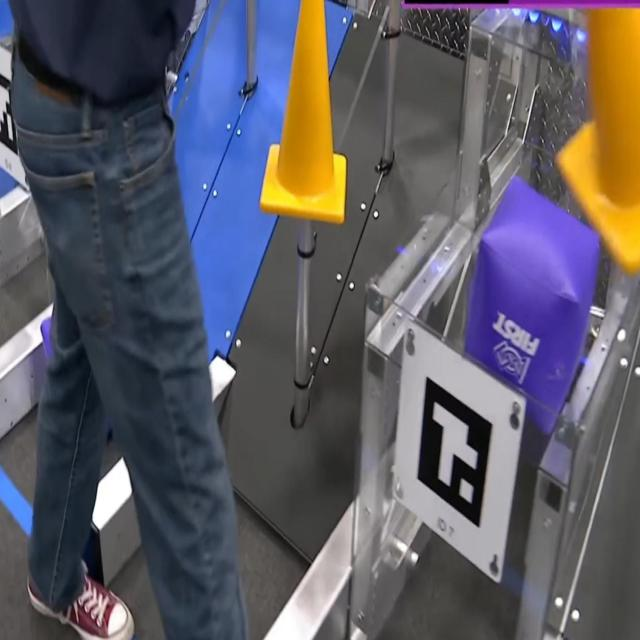frc_cone: (553, 0, 640, 284), (259, 0, 347, 226)
frc_cube: (461, 178, 596, 430), (39, 316, 59, 361)
